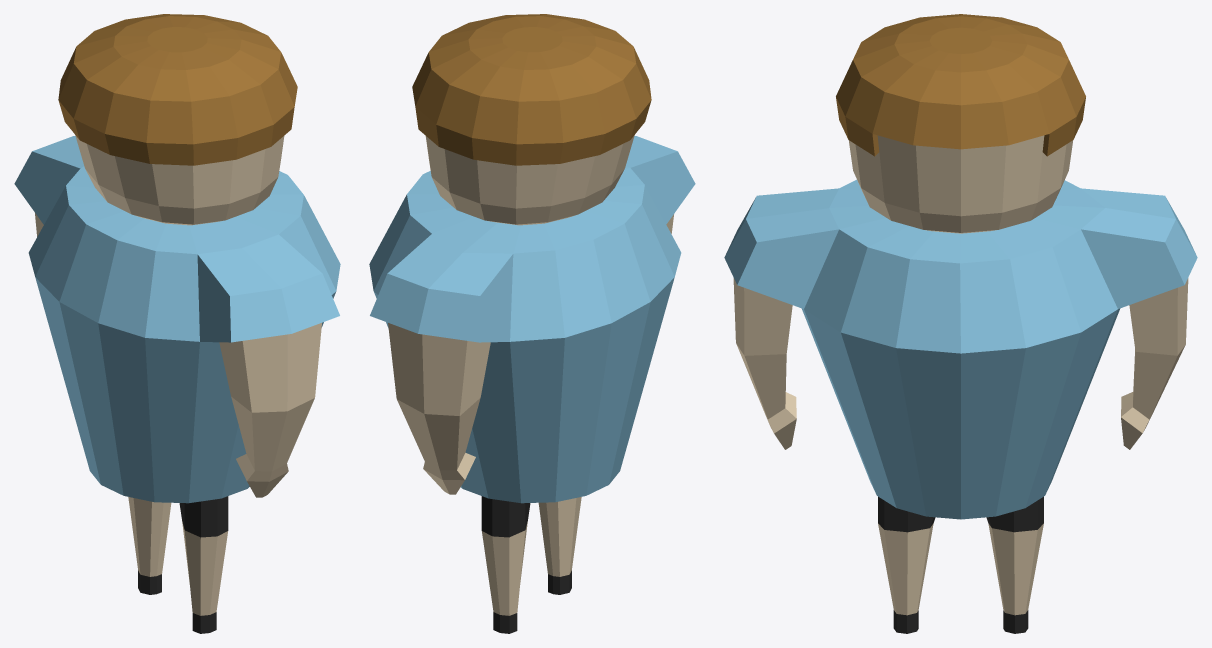
File: Client_man.fbx
3 views of the same model, side by side, from view 1: azimuth 30°, elevation 25°; view 2: azimuth 150°, elevation 25°; view 3: azimuth 270°, elevation 25° (orthographic). The views are drawn at different scales.
Parts seen in each view (by area): view 1: Client_man; view 2: Client_man; view 3: Client_man.
Part boxes in pixels (<box>): Client_man: <box>14,14,340,633</box>; Client_man: <box>369,14,695,633</box>; Client_man: <box>724,14,1197,633</box>.
Bounding box in the file's own units: 161 × 106 × 221.
